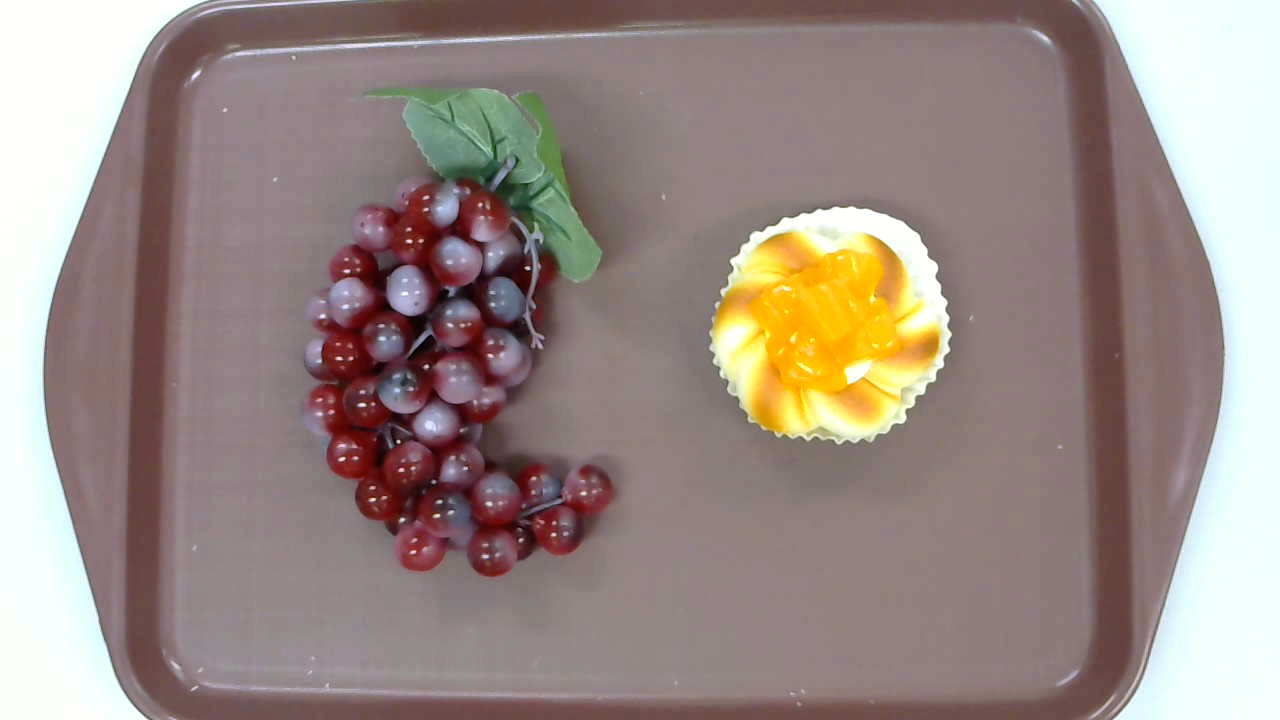grape: (303, 84, 619, 580)
mango tart: (708, 205, 953, 446)
